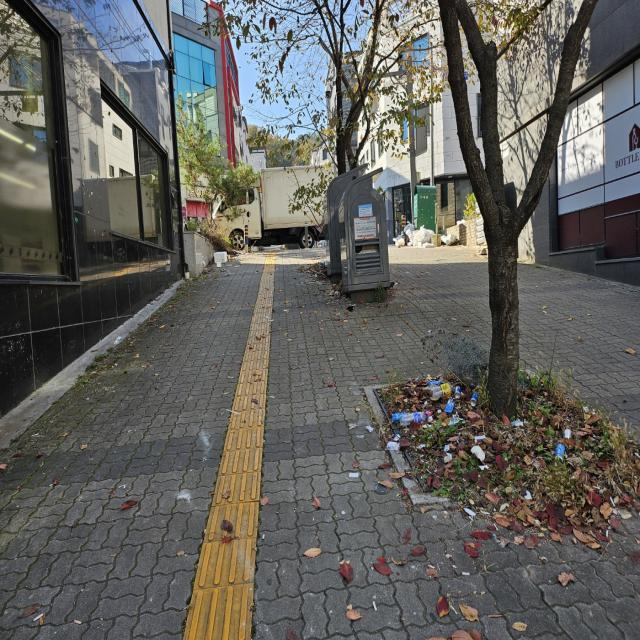CleanNet: (317, 159, 398, 301)
